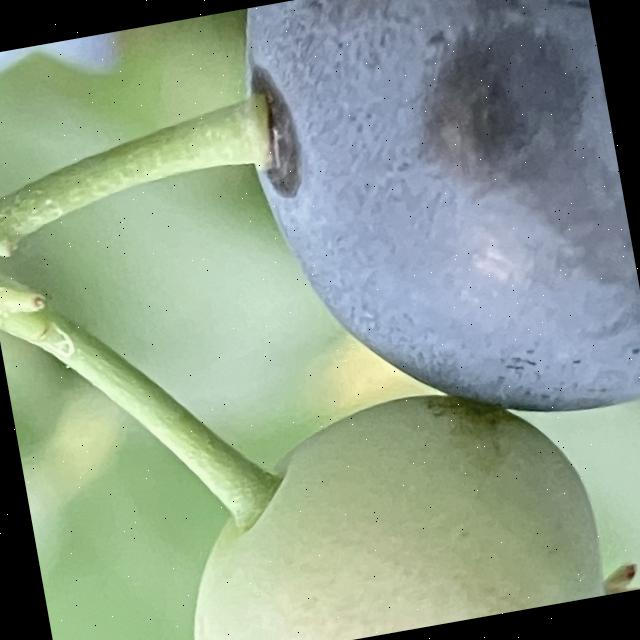Blueberries: (217, 0, 640, 466), (144, 352, 640, 640)
